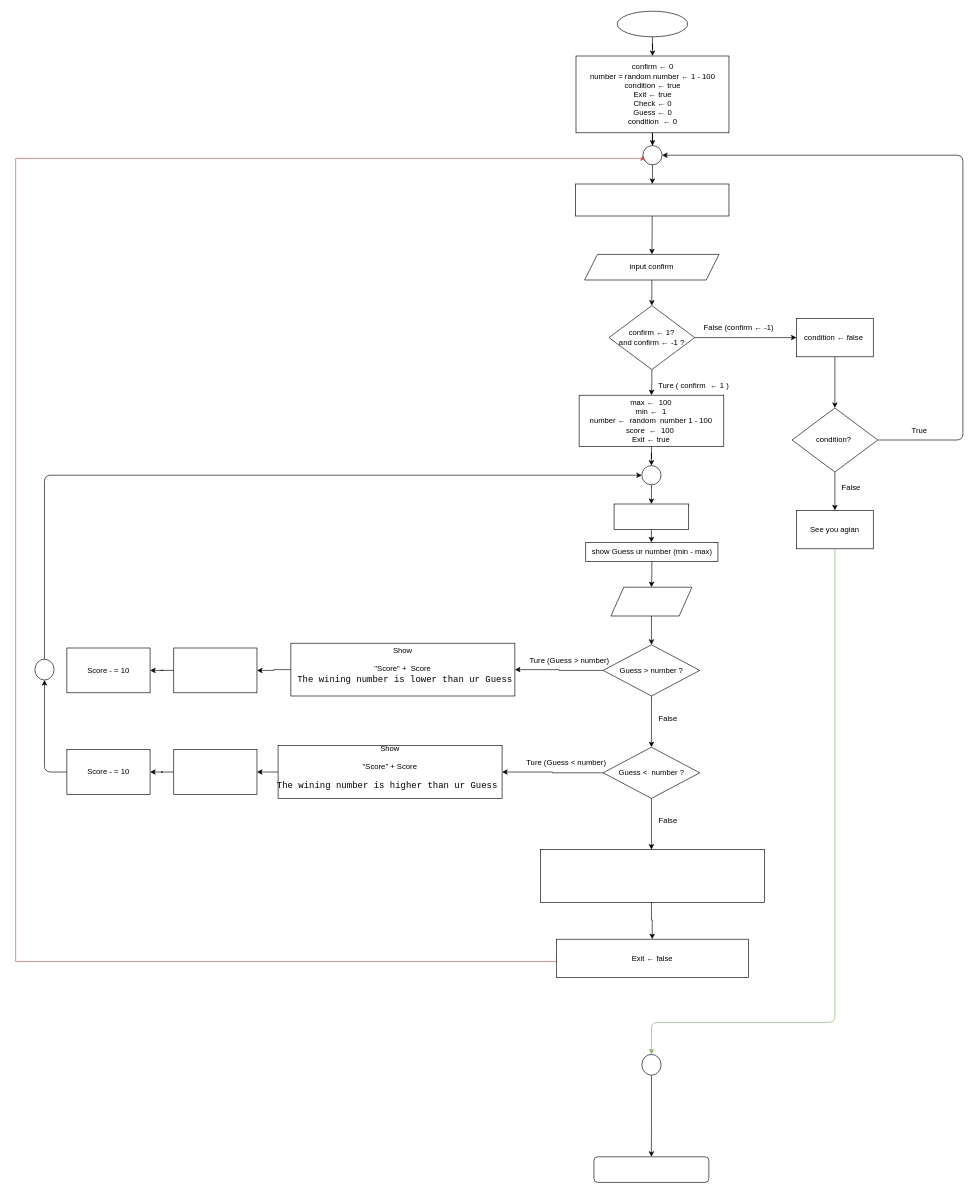
Image size: 979x1194. Some labels were removed from this diagram. Each missing label, with the box of its shape:
Do you want to play game ? ( 1 ← play -1 ← Exit ): (575, 183, 729, 216)
End: (593, 1156, 709, 1182)
Input Guess: (610, 587, 692, 616)
Max ← Guess: (173, 749, 257, 794)
Min ← Guess: (173, 647, 257, 693)
Show "That is correct ! The winning number is _" number: (540, 849, 764, 902)
Show Score: (613, 503, 689, 530)
Start: (617, 11, 688, 37)
